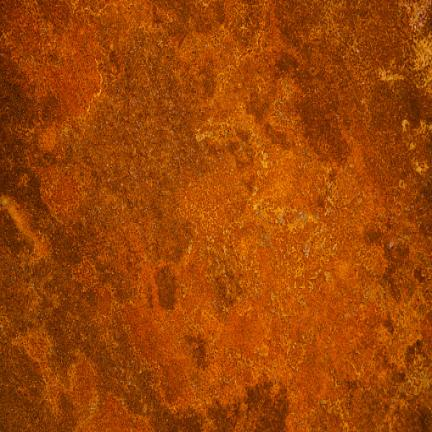karat: (1, 0, 432, 430)
